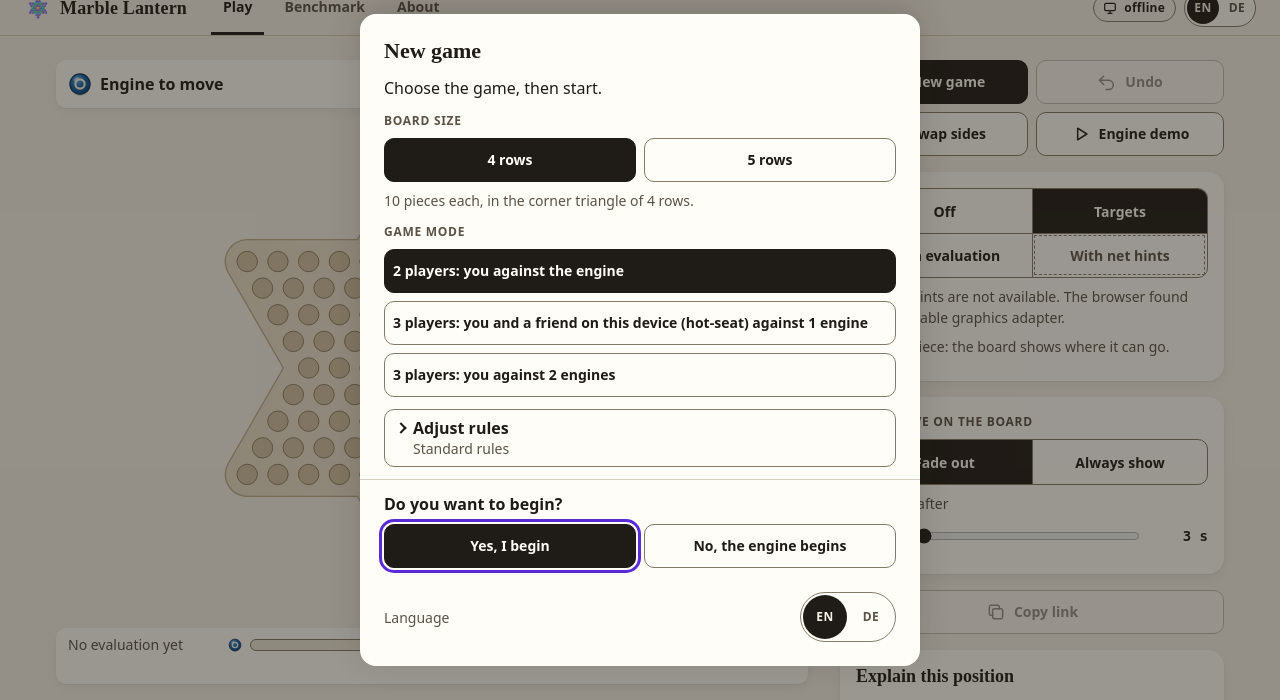
Test: engine and strength › closes on Escape without changes
Click the button "No, the engine begins" at (770, 546), box top-left (644, 524), bottom-right (896, 568)
(page scrolled)
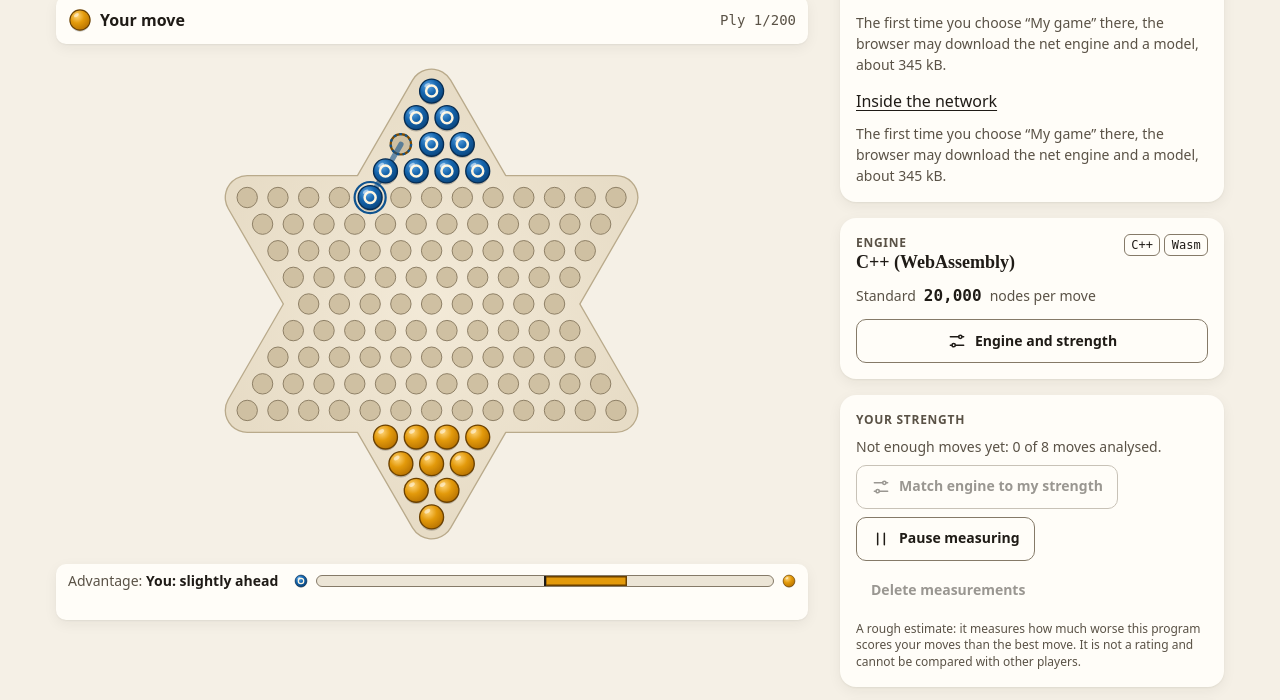
Click the button "Engine and strength" at (1032, 341), box top-left (856, 319), bottom-right (1208, 363)
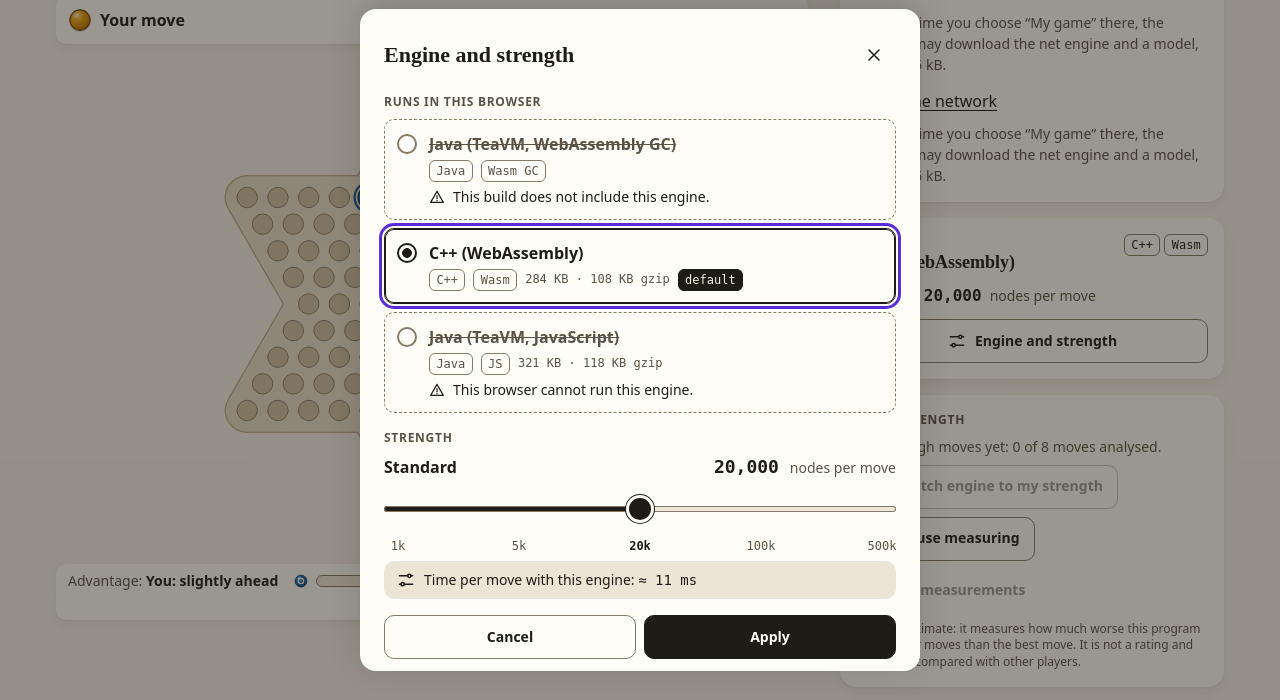
Press Escape in the dialog, box top-left (360, 9), bottom-right (920, 671)
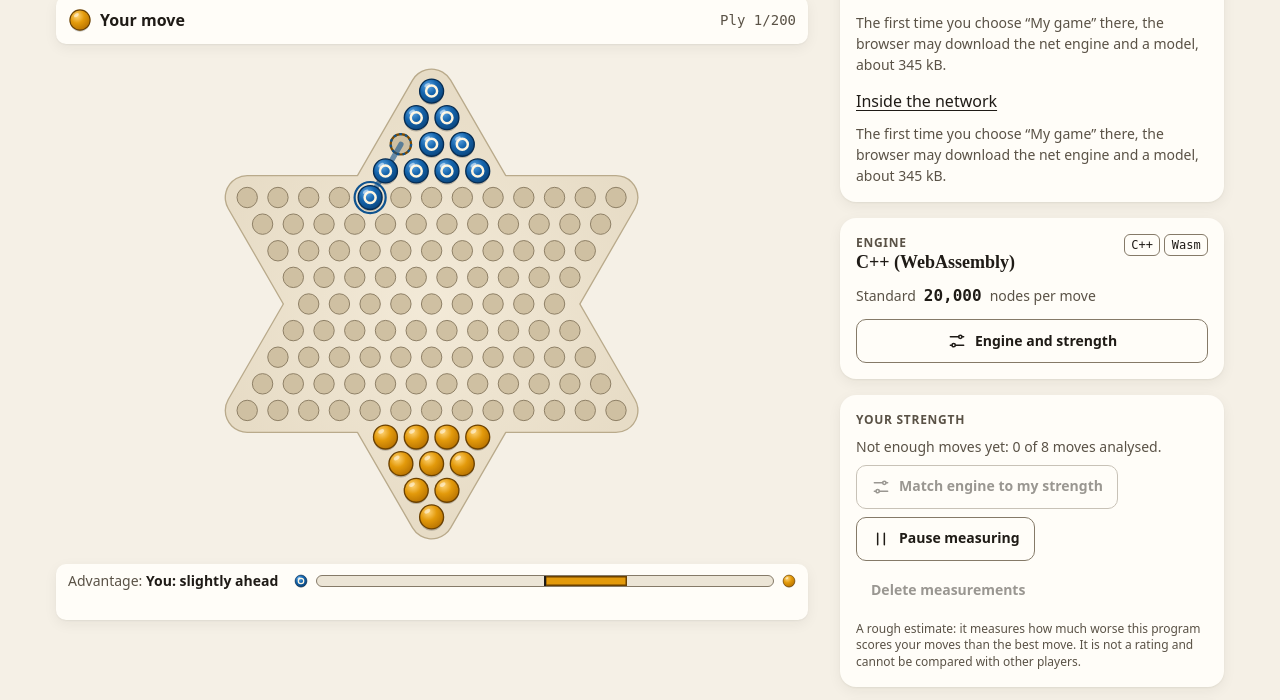
Expected: the element with class "ml-engine__level" shows "Standard", top-left (856, 286), bottom-right (916, 305)
Result: the dialog is gone
